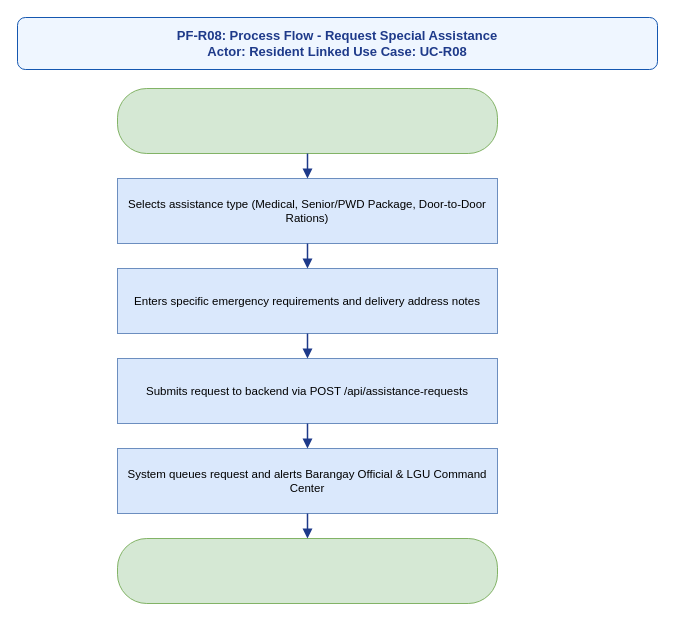
The diagram is 675 pixels wide and 621 high, and some of its shapes have lost their labels. Here are the shapes that lost their labels. From the top down, the centre of each, then its label:
the point at 307,121: START: Resident opens Special Assistance request form
the point at 307,571: END: Special request logged; awaiting Field Staff dispatch (PF-FS03)
